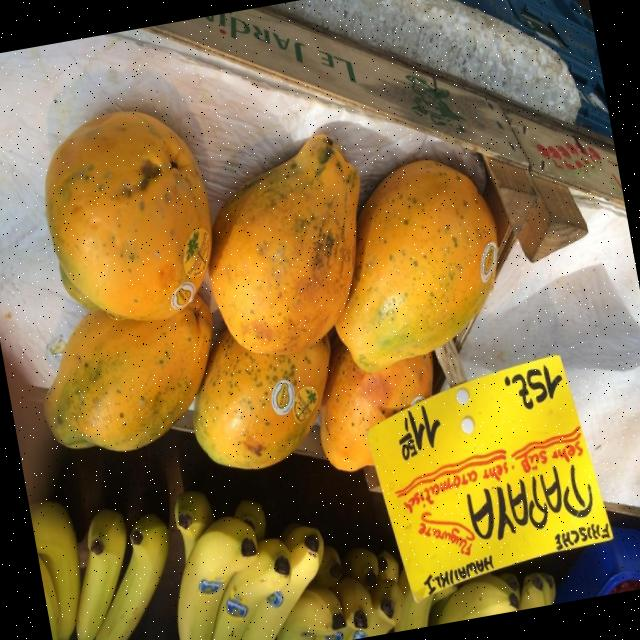banana: (92, 512, 168, 640), (74, 506, 128, 640)
